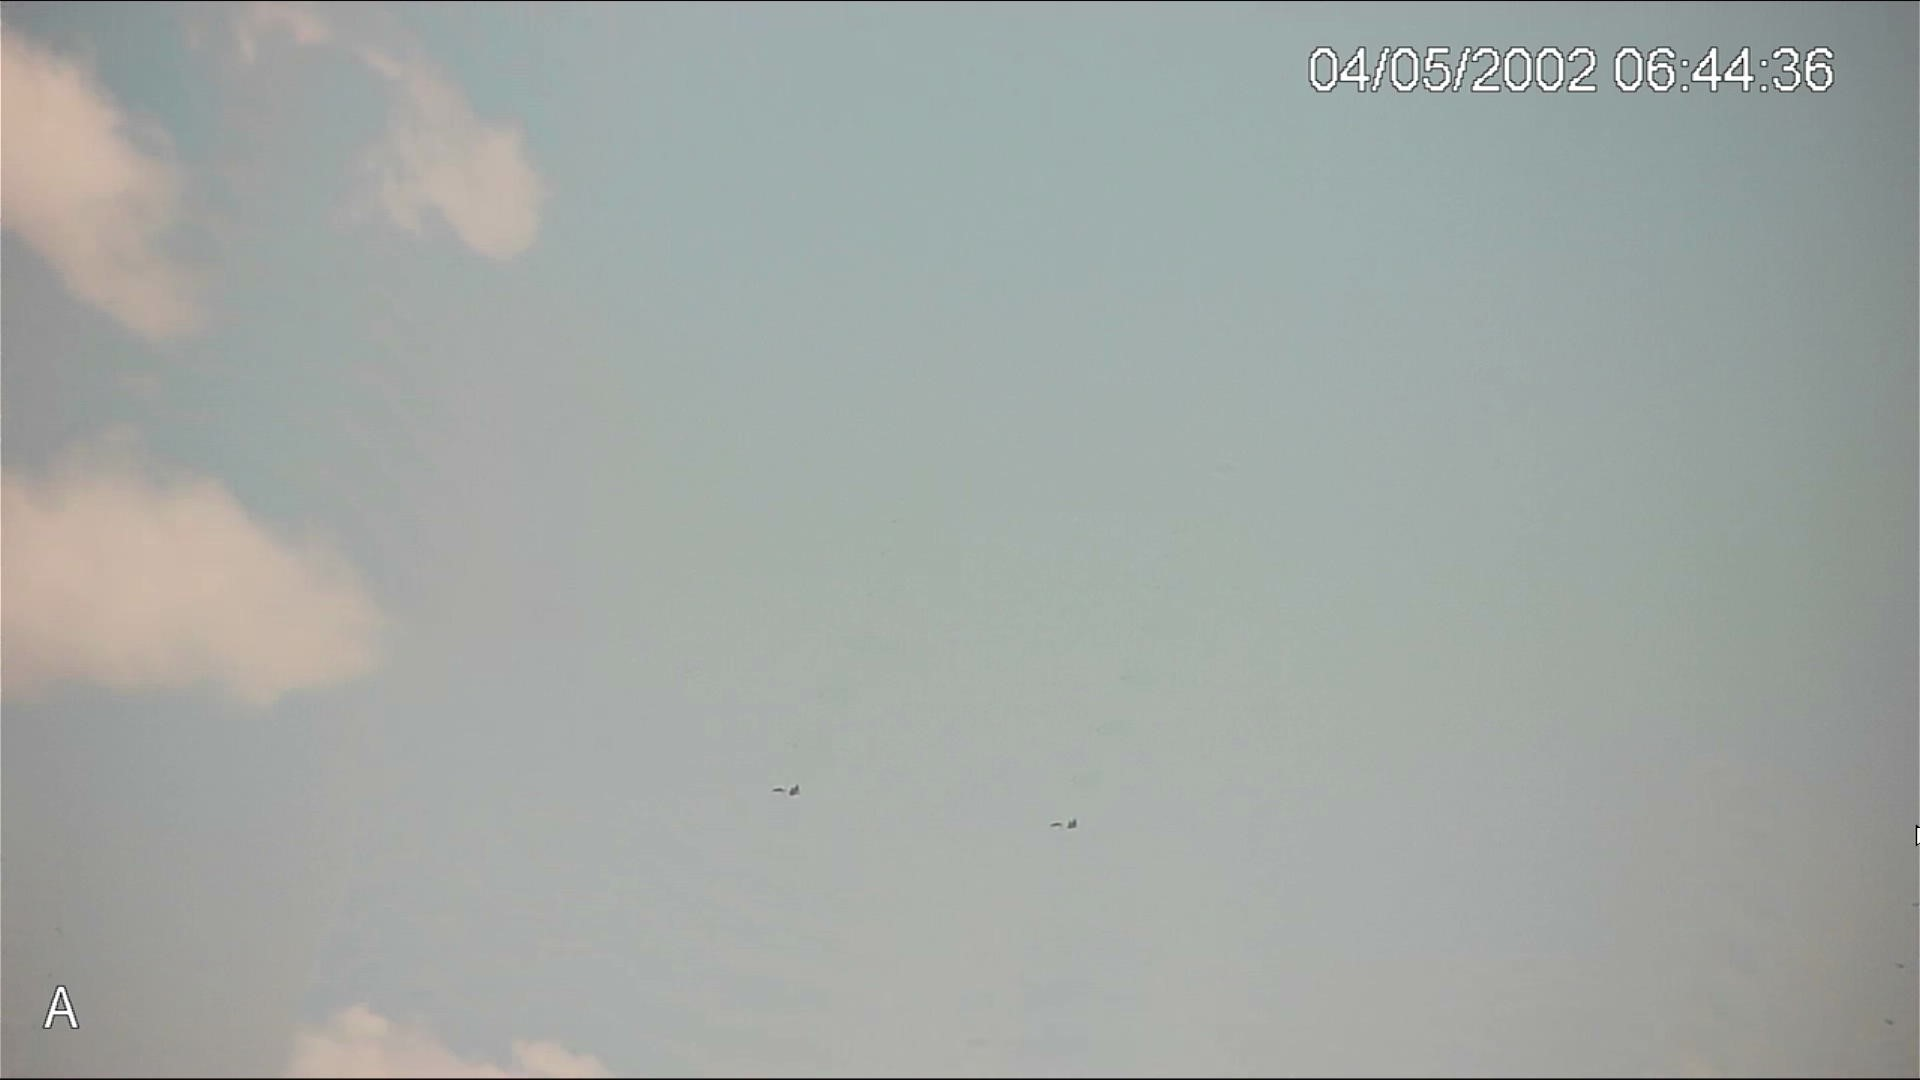SU_30: (1048, 818, 1077, 833), (767, 781, 806, 793)
